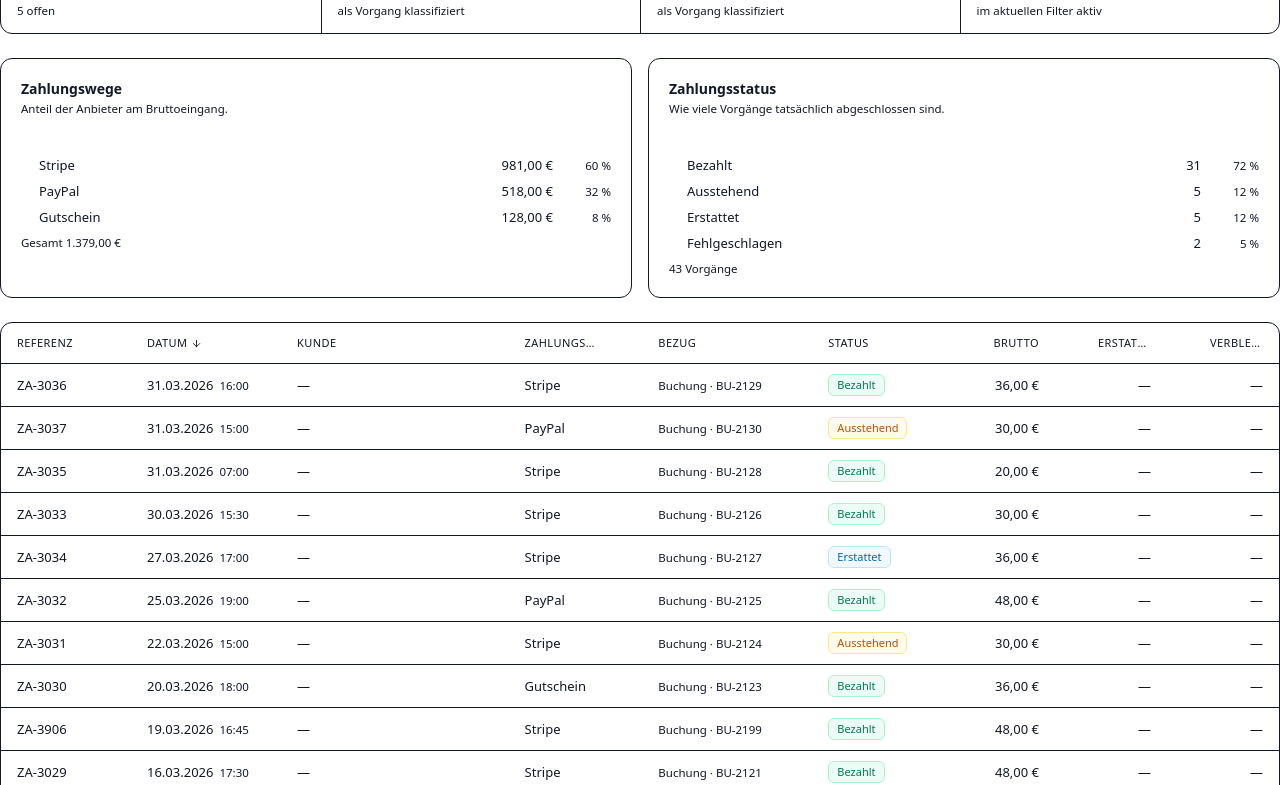
Scenario: payments with no upstream refund amount, name or classification › labels an unclassifiable payment as such, never as a regular one
(page scrolled)
Step 1. Click the row that starts with "ZA-3036" → (640, 385), box left=1, top=364, right=1279, bottom=406
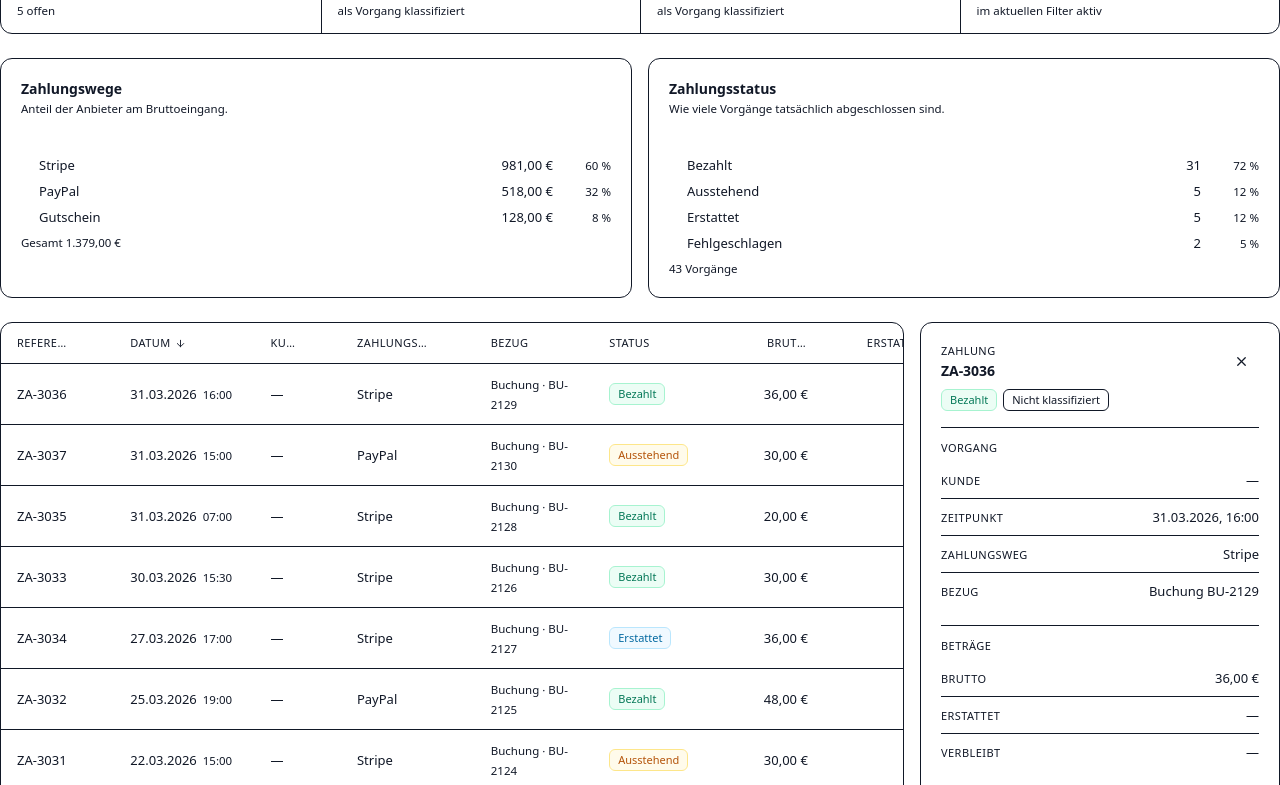
Expected: the text "Nicht klassifiziert" is shown, left=1003, top=389, right=1109, bottom=411
